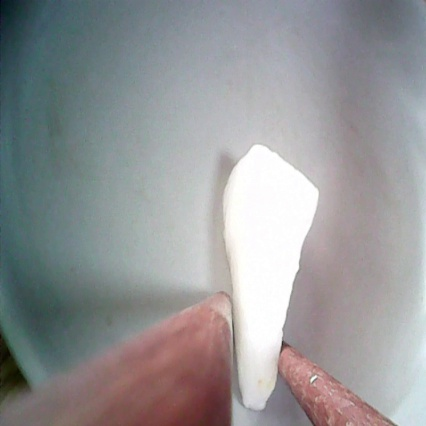white_chinese-yam: (220, 141, 319, 414), (217, 138, 316, 411)
